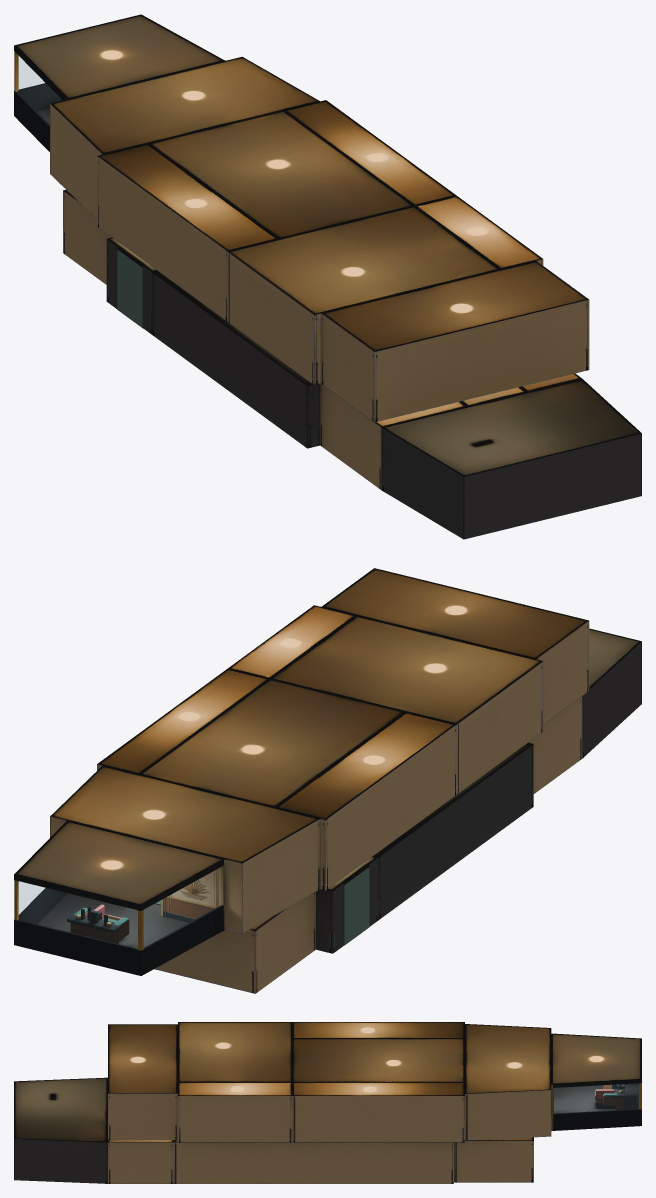
File: manatee.glb
The picture shows the model from 3 angles, top to bottom: view 1: azimuth 30°, elevation 25°; view 2: azimuth 150°, elevation 25°; view 3: azimuth 270°, elevation 25°; orthographic projection. The views are drawn at different scales.
Visible parts, largest first — view 1: room_08, room_16, room_06, room_04, room_02, room_03, room_01, room_11, room_05, room_13, room_07, room_10 (+1 smaller); view 2: room_01, room_06, room_02, room_04, room_03, room_08, room_11, room_09, room_05, room_16, room_10, room_07 (+1 smaller); view 3: room_12, room_05, room_02, room_16, room_01, room_08, room_04, room_07, room_06, room_09, room_03, room_15.
Boxes of the visible parts, x1=… form: room_08: x1=321, y1=261, x2=589, y2=422; room_16: x1=381, y1=378, x2=641, y2=539; room_06: x1=227, y1=206, x2=500, y2=385; room_04: x1=148, y1=110, x2=413, y2=238; room_02: x1=50, y1=56, x2=319, y2=218; room_03: x1=97, y1=143, x2=277, y2=321; room_01: x1=14, y1=14, x2=224, y2=151; room_11: x1=152, y1=271, x2=320, y2=448; room_05: x1=284, y1=100, x2=456, y2=205; room_13: x1=320, y1=383, x2=467, y2=489; room_07: x1=415, y1=195, x2=543, y2=269; room_10: x1=106, y1=237, x2=157, y2=334; room_01: x1=14, y1=820, x2=225, y2=975; room_06: x1=270, y1=615, x2=543, y2=794; room_02: x1=50, y1=765, x2=320, y2=933; room_04: x1=140, y1=679, x2=405, y2=807; room_03: x1=275, y1=712, x2=456, y2=890; room_08: x1=321, y1=568, x2=589, y2=724; room_11: x1=373, y1=742, x2=533, y2=919; room_09: x1=154, y1=892, x2=315, y2=993; room_05: x1=97, y1=668, x2=269, y2=774; room_16: x1=582, y1=628, x2=641, y2=758; room_10: x1=316, y1=856, x2=378, y2=953; room_07: x1=228, y1=605, x2=356, y2=678; room_12: x1=173, y1=1140, x2=453, y2=1183; room_05: x1=292, y1=1082, x2=464, y2=1142; room_02: x1=465, y1=1024, x2=551, y2=1140; room_16: x1=14, y1=1077, x2=107, y2=1183; room_01: x1=551, y1=1033, x2=641, y2=1130; room_08: x1=108, y1=1024, x2=177, y2=1140; room_04: x1=292, y1=1038, x2=464, y2=1082; room_07: x1=178, y1=1082, x2=292, y2=1142; room_06: x1=178, y1=1022, x2=292, y2=1082; room_09: x1=454, y1=1137, x2=533, y2=1182; room_03: x1=292, y1=1022, x2=464, y2=1038; room_15: x1=108, y1=1140, x2=173, y2=1183.
Bounding box in the file's own units: 8.11 × 4.73 × 29.11.
Materials: 26 (16 with a texture image).
